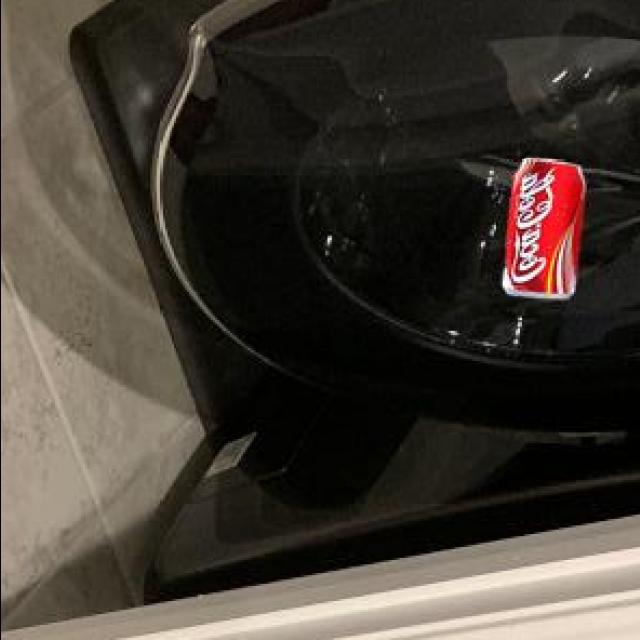logam: (505, 161, 587, 302)
